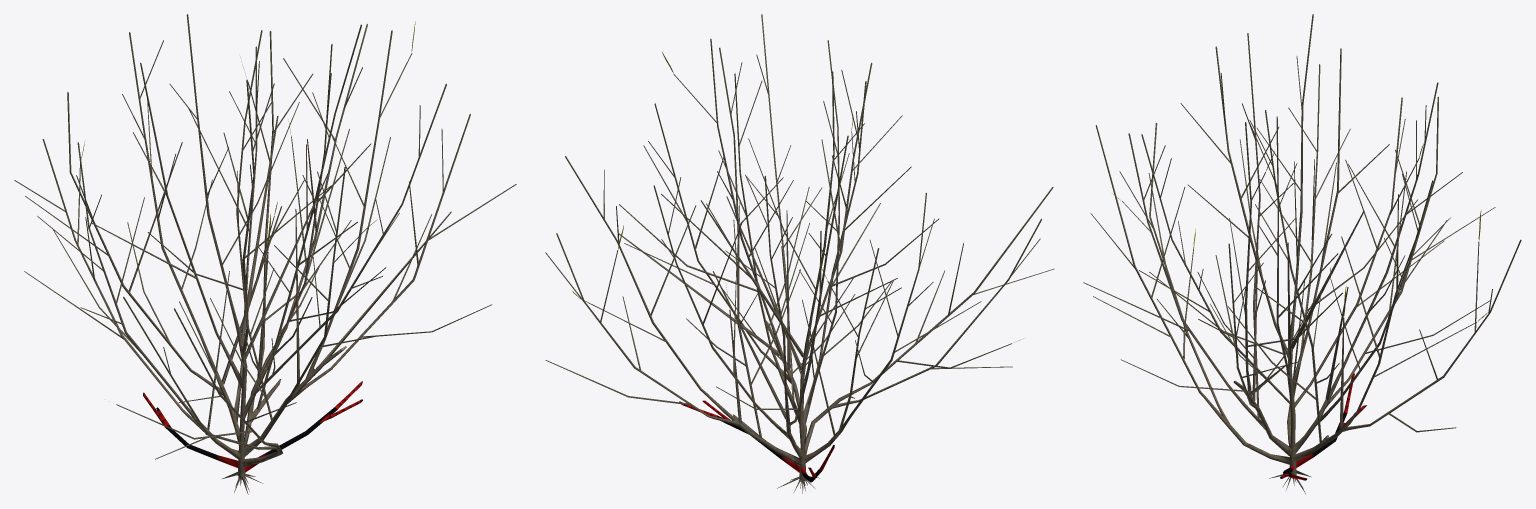
Rendered from Salix elaeagnos HD_Damaged winter mat 0_LOD3.fbx.
3 views of the same model, side by side, from view 1: azimuth 30°, elevation 25°; view 2: azimuth 150°, elevation 25°; view 3: azimuth 270°, elevation 25° (orthographic). The views are drawn at different scales.
Visible parts, largest first — view 1: Salix_elaeagnos_HD; view 2: Salix_elaeagnos_HD; view 3: Salix_elaeagnos_HD.
Part boxes in pixels (x1=…): Salix_elaeagnos_HD: x1=14, y1=14, x2=516, y2=494; Salix_elaeagnos_HD: x1=545, y1=14, x2=1054, y2=493; Salix_elaeagnos_HD: x1=1083, y1=14, x2=1521, y2=493.
Size of the model in its own units: 0.4754 by 0.5184 by 0.4544.
